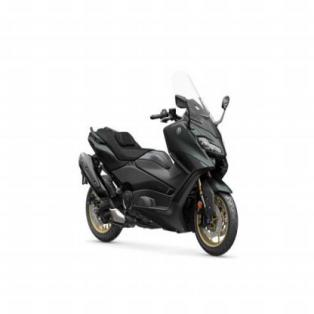Motocicleta: (72, 55, 247, 266)
